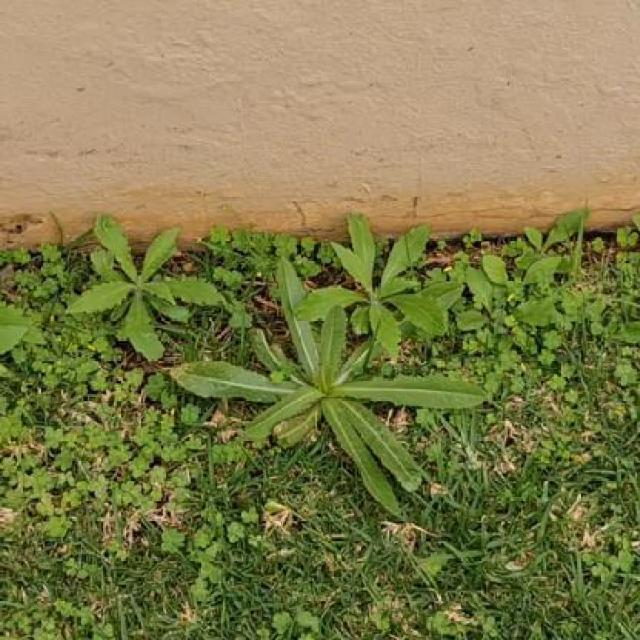weed: (172, 215, 485, 513), (69, 218, 231, 359)
